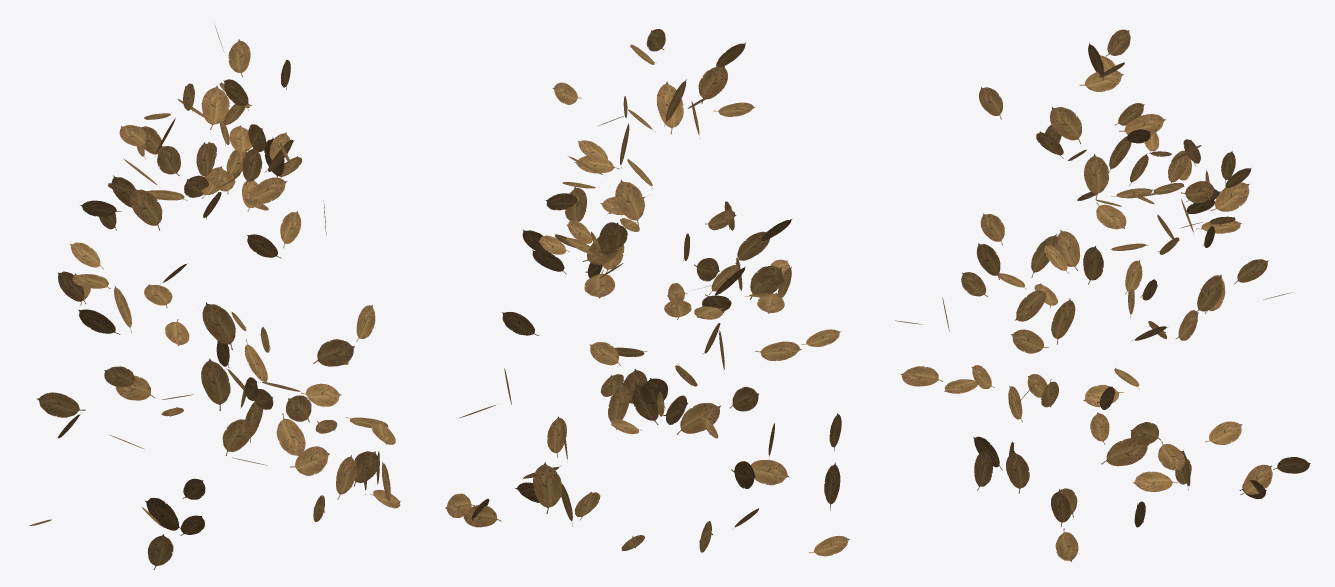
The model's file is Bush_Leaves04.fbx.
3 views of the same model, side by side, from view 1: azimuth 30°, elevation 25°; view 2: azimuth 150°, elevation 25°; view 3: azimuth 270°, elevation 25° (orthographic). The views are drawn at different scales.
Visible parts, largest first — view 1: Bush_Leaves04; view 2: Bush_Leaves04; view 3: Bush_Leaves04.
Part boxes in pixels (box(x1,y1,x2,y2)): Bush_Leaves04: box(29, 24, 400, 569); Bush_Leaves04: box(445, 29, 849, 556); Bush_Leaves04: box(895, 29, 1310, 561).
Bounding box in the file's own units: 55.08 × 68.91 × 50.58.
